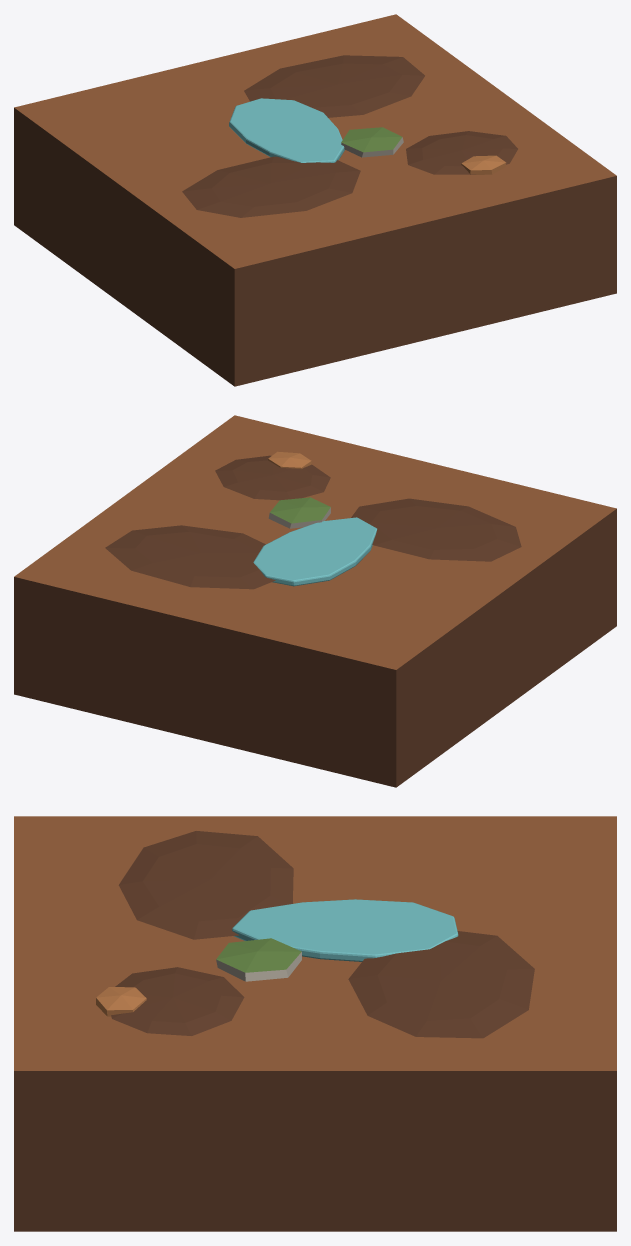
The model's file is tile_mud.glb.
The picture shows the model from 3 angles, top to bottom: view 1: azimuth 30°, elevation 25°; view 2: azimuth 150°, elevation 25°; view 3: azimuth 270°, elevation 25°; orthographic projection. The views are drawn at different scales.
Parts seen in each view (by area): view 1: mud_cap, mud_body, mud_wet_0, mud_wet_1, mud_puddle, mud_wet_2, mud_step, mud_clod_0; view 2: mud_cap, mud_body, mud_wet_1, mud_wet_0, mud_puddle, mud_wet_2, mud_step, mud_clod_0; view 3: mud_cap, mud_body, mud_wet_1, mud_wet_0, mud_puddle, mud_wet_2, mud_step, mud_clod_0.
Part boxes in pixels (x1,y1,x2,y2): mud_cap: (14,14,616,281); mud_body: (14,121,616,386); mud_wet_0: (182,156,360,217); mud_wet_1: (244,55,424,117); mud_puddle: (229,98,344,162); mud_wet_2: (406,131,517,174); mud_step: (341,127,403,157); mud_clod_0: (461,155,506,174); mud_cap: (14,415,616,682); mud_body: (14,522,616,787); mud_wet_1: (105,525,275,589); mud_wet_0: (351,498,521,561); mud_puddle: (253,517,377,586); mud_wet_2: (215,455,330,500); mud_step: (268,497,330,528); mud_clod_0: (268,451,311,469); mud_cap: (14,816,616,1088); mud_body: (14,1088,616,1231); mud_wet_1: (348,931,534,1038); mud_wet_0: (118,831,293,939); mud_puddle: (232,899,458,961); mud_wet_2: (111,967,244,1035); mud_step: (216,938,301,981); mud_clod_0: (96,987,146,1016).
Size of what is drawn, in the model's own units: 1.7 by 0.548 by 1.7.
